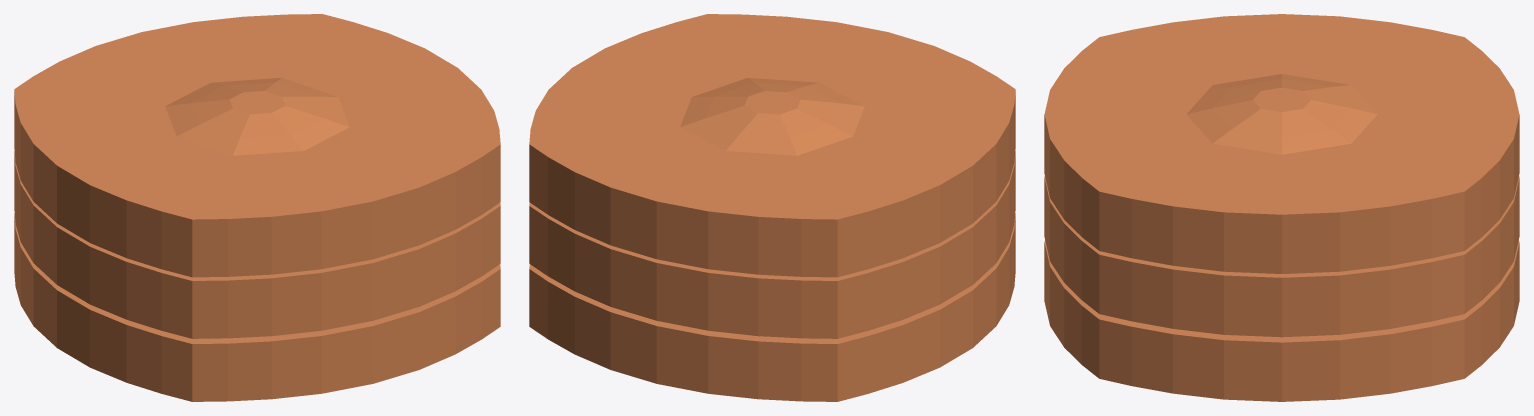
Rendered from 3Copper.fbx.
3 views of the same model, side by side, from view 1: azimuth 30°, elevation 25°; view 2: azimuth 150°, elevation 25°; view 3: azimuth 270°, elevation 25° (orthographic). The views are drawn at different scales.
Parts seen in each view (by area): view 1: Copper, Copper.002, Copper.001; view 2: Copper, Copper.002, Copper.001; view 3: Copper, Copper.002, Copper.001.
Part boxes in pixels (x1,y1,x2,y2): Copper: [14, 14, 500, 277]; Copper.002: [14, 214, 500, 401]; Copper.001: [14, 151, 500, 338]; Copper: [529, 14, 1015, 277]; Copper.002: [529, 214, 1015, 401]; Copper.001: [529, 151, 1015, 338]; Copper: [1044, 14, 1519, 273]; Copper.002: [1044, 240, 1519, 401]; Copper.001: [1044, 176, 1519, 337].
Size of the model in its own units: 8.92 by 4.18 by 8.92.
